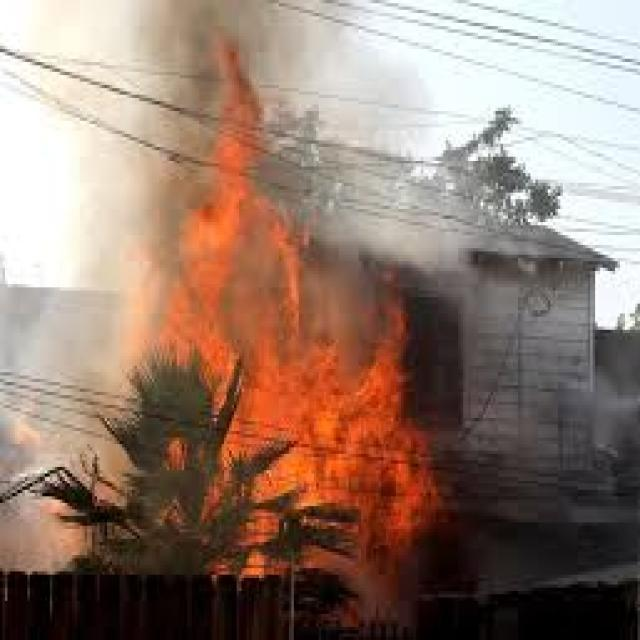Fire: (239, 336, 447, 566), (172, 54, 310, 360)
Smoke: (113, 1, 460, 364)
